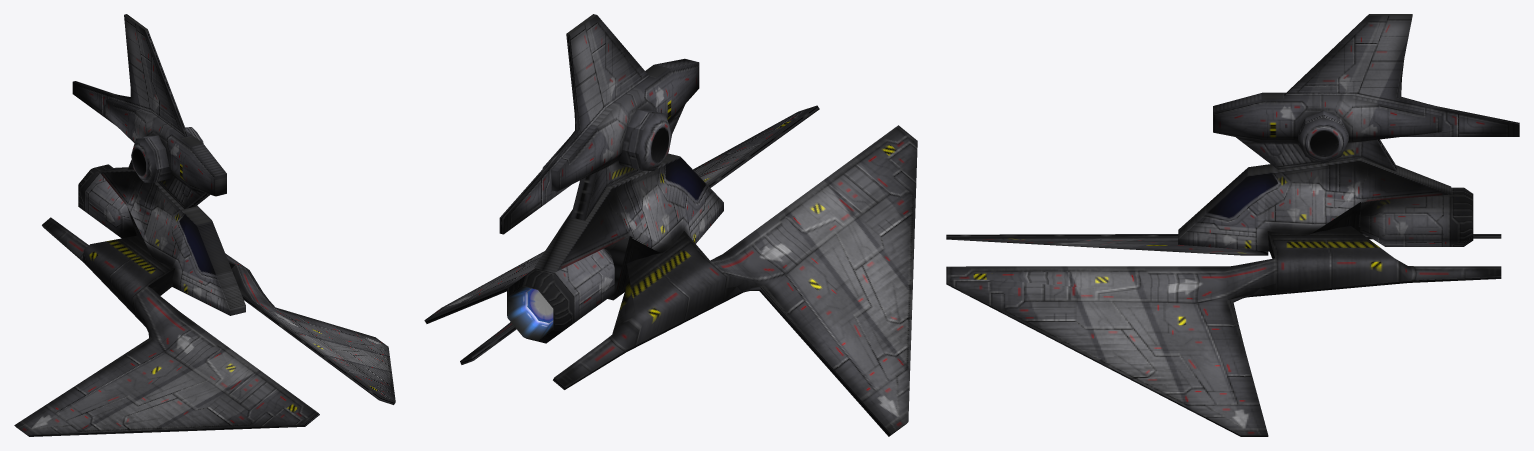
The model's file is schroedinger.obj.
3 renders of one model, left to right at view 1: azimuth 30°, elevation 25°; view 2: azimuth 150°, elevation 25°; view 3: azimuth 270°, elevation 25°, orthographic. The views are drawn at different scales.
Bounding box in the file's own units: 15.03 × 12.67 × 19.85.
6 materials, 6 textured.
